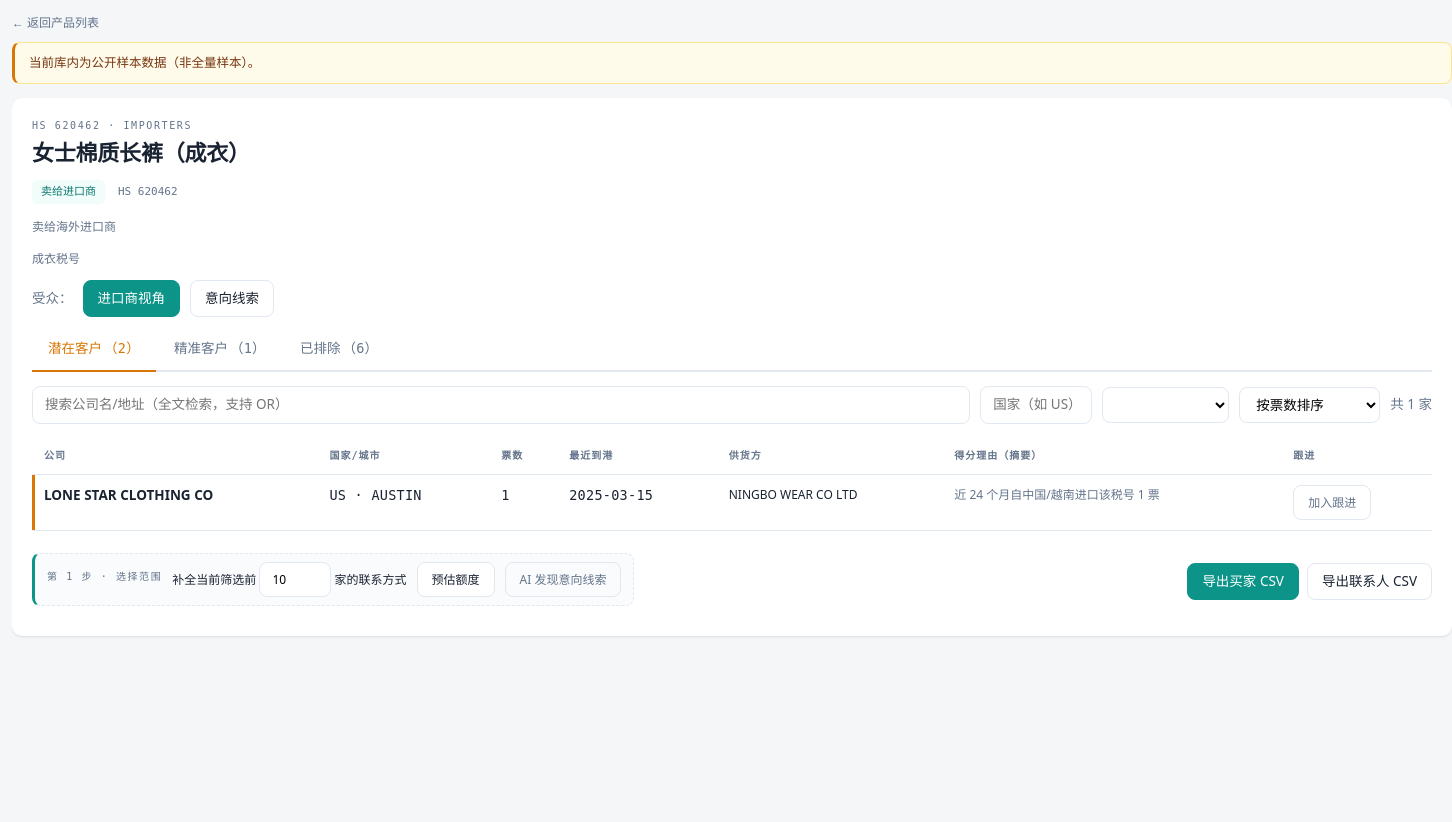
产品详情页（用户可见结果） › 排除页签为空时显示空态
The image size is (1452, 822).
expect the heading "女士棉质长裤（成衣）" is shown: met, box x1=32 y1=137 x2=250 y2=167
Click the tab with test id "tab-excluded" at (339, 351), box x1=284 y1=329 x2=394 y2=372
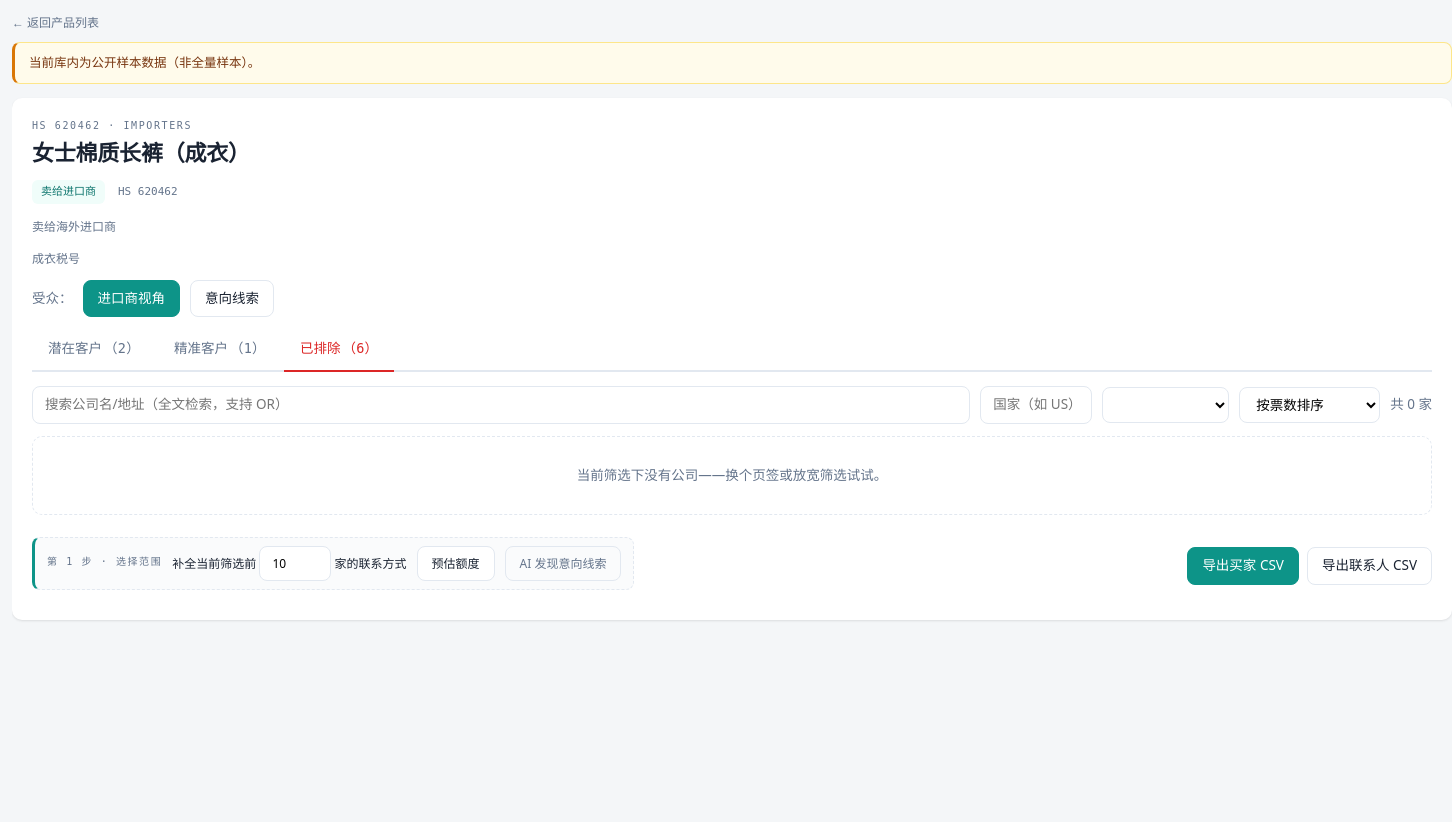
expect the text "当前筛选下没有公司——换个页签或放宽筛选试试。" is shown: met, box x1=32 y1=436 x2=1432 y2=515
